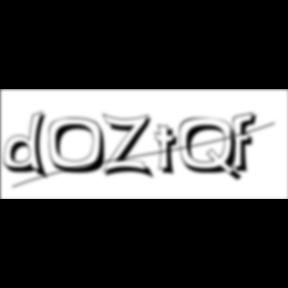O: (48, 117, 114, 176)
Q: (179, 117, 245, 184)
Z: (102, 112, 158, 181)
d: (4, 110, 54, 182)
f: (230, 111, 262, 175)
t: (154, 124, 186, 179)
